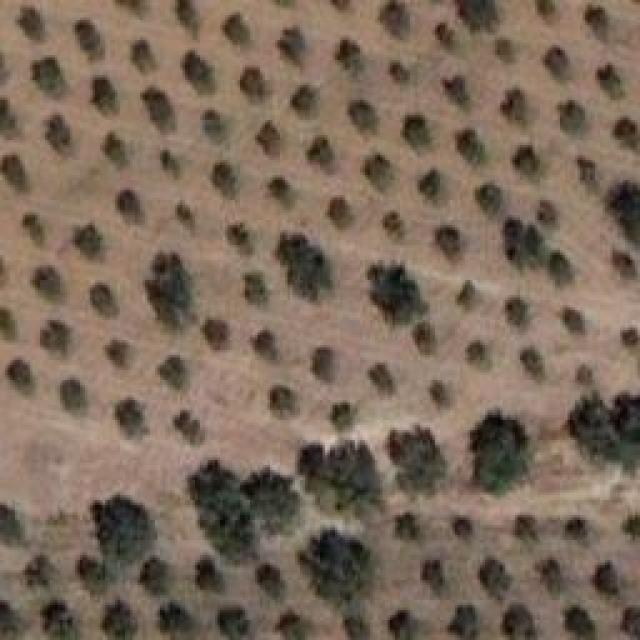Tree: (187, 460, 255, 561), (298, 440, 383, 516), (570, 392, 640, 472), (300, 530, 372, 606), (467, 416, 529, 498), (95, 495, 156, 561), (388, 425, 447, 491), (275, 233, 331, 301), (145, 253, 194, 329), (370, 265, 428, 325), (248, 460, 300, 526), (607, 180, 640, 247), (248, 565, 288, 602), (103, 600, 139, 640), (475, 552, 507, 597), (215, 598, 253, 635), (440, 600, 477, 637), (143, 88, 174, 132), (115, 398, 149, 438), (455, 0, 498, 31), (505, 600, 539, 639), (185, 50, 213, 94), (363, 153, 394, 191), (380, 0, 411, 38), (592, 558, 620, 600), (173, 410, 206, 445), (35, 60, 67, 96), (240, 68, 271, 105), (140, 558, 170, 596), (448, 505, 478, 542), (78, 555, 107, 593), (560, 600, 592, 634), (423, 560, 454, 595), (73, 223, 103, 259), (505, 218, 526, 269), (158, 603, 192, 634), (158, 355, 188, 390), (560, 100, 590, 135), (80, 20, 106, 60), (33, 267, 62, 302), (388, 610, 423, 639), (563, 510, 592, 545), (277, 30, 305, 66), (45, 115, 70, 155), (390, 510, 421, 542), (270, 385, 300, 418), (475, 182, 503, 217), (195, 557, 223, 592), (513, 515, 541, 550), (45, 600, 70, 639), (0, 504, 24, 544), (43, 320, 72, 353), (25, 555, 54, 588), (537, 555, 565, 589), (335, 38, 361, 74), (203, 318, 232, 350), (513, 145, 542, 177), (93, 78, 118, 115), (213, 163, 238, 200), (275, 615, 312, 640), (222, 13, 250, 46), (90, 282, 116, 317), (8, 360, 33, 396), (548, 250, 573, 286), (402, 115, 430, 147), (60, 380, 88, 412), (368, 363, 394, 397), (18, 7, 43, 42), (0, 157, 25, 192), (118, 190, 143, 225), (133, 40, 158, 75), (435, 225, 460, 260), (458, 133, 486, 164), (585, 5, 609, 41), (328, 198, 354, 231), (500, 88, 526, 121), (255, 122, 280, 156), (545, 47, 569, 82), (313, 348, 336, 384), (617, 602, 640, 637), (0, 600, 20, 640), (413, 323, 437, 356), (103, 134, 126, 168), (330, 402, 356, 432), (308, 137, 334, 167), (520, 348, 543, 381), (613, 120, 638, 150), (178, 0, 198, 37), (23, 212, 44, 247), (290, 85, 316, 113), (350, 103, 376, 131), (245, 275, 269, 305), (418, 170, 442, 200), (458, 280, 481, 311), (508, 298, 531, 329), (105, 340, 130, 368), (348, 610, 372, 639), (253, 330, 276, 360), (600, 68, 622, 99), (443, 78, 465, 107), (230, 225, 251, 255), (622, 508, 640, 543), (580, 157, 598, 192), (613, 250, 635, 278), (273, 177, 293, 207), (205, 110, 223, 142), (563, 308, 585, 334), (468, 343, 488, 371), (435, 23, 455, 50), (0, 308, 16, 340), (177, 203, 195, 231), (430, 380, 448, 407), (385, 215, 403, 240), (495, 37, 513, 62), (163, 150, 179, 178), (390, 64, 411, 84), (538, 200, 554, 226), (620, 328, 639, 348), (575, 365, 593, 385), (535, 0, 553, 17)
